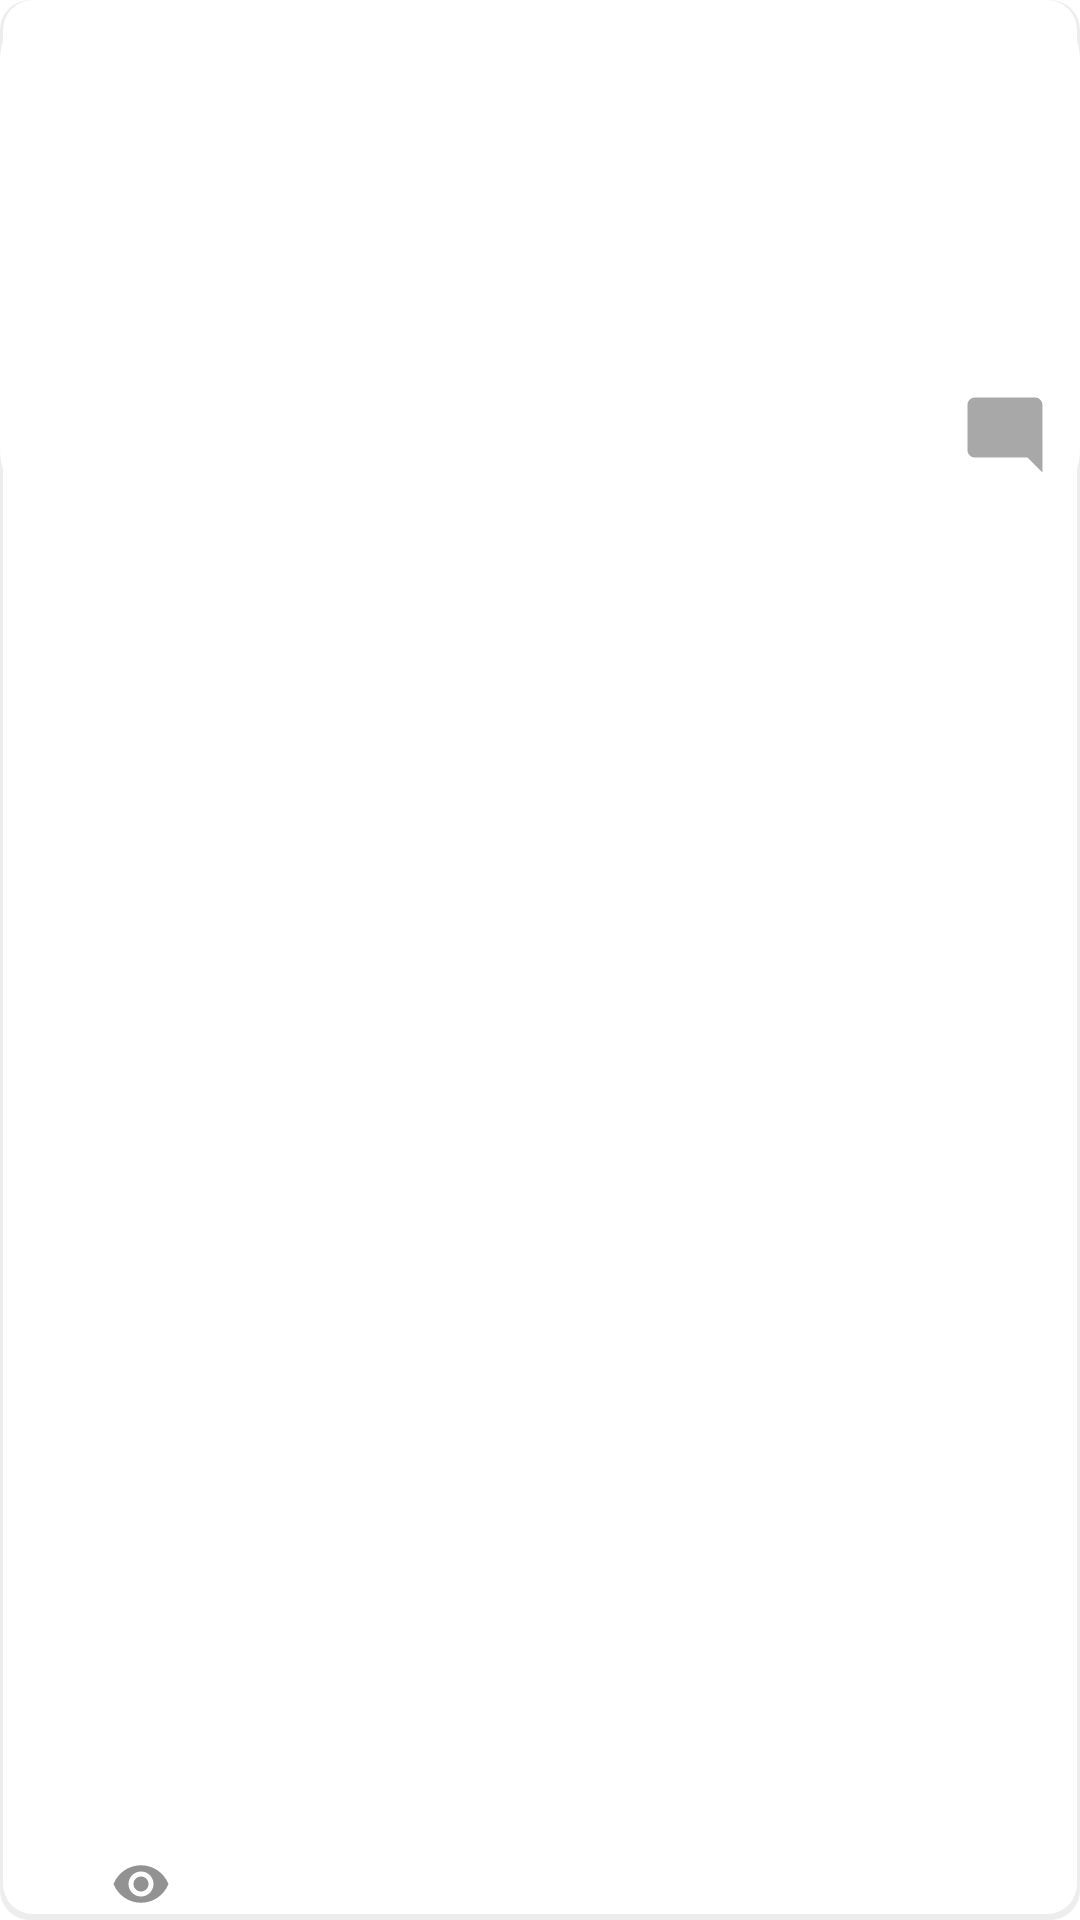

Icons on this 1080x1920 Android screen, each with its box as Rect(x1, y1, x2, y2):
comment: Rect(967, 397, 1043, 472)
eye: Rect(113, 1865, 169, 1903)
